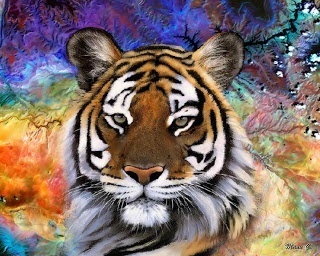tigre: (49, 24, 298, 256)
